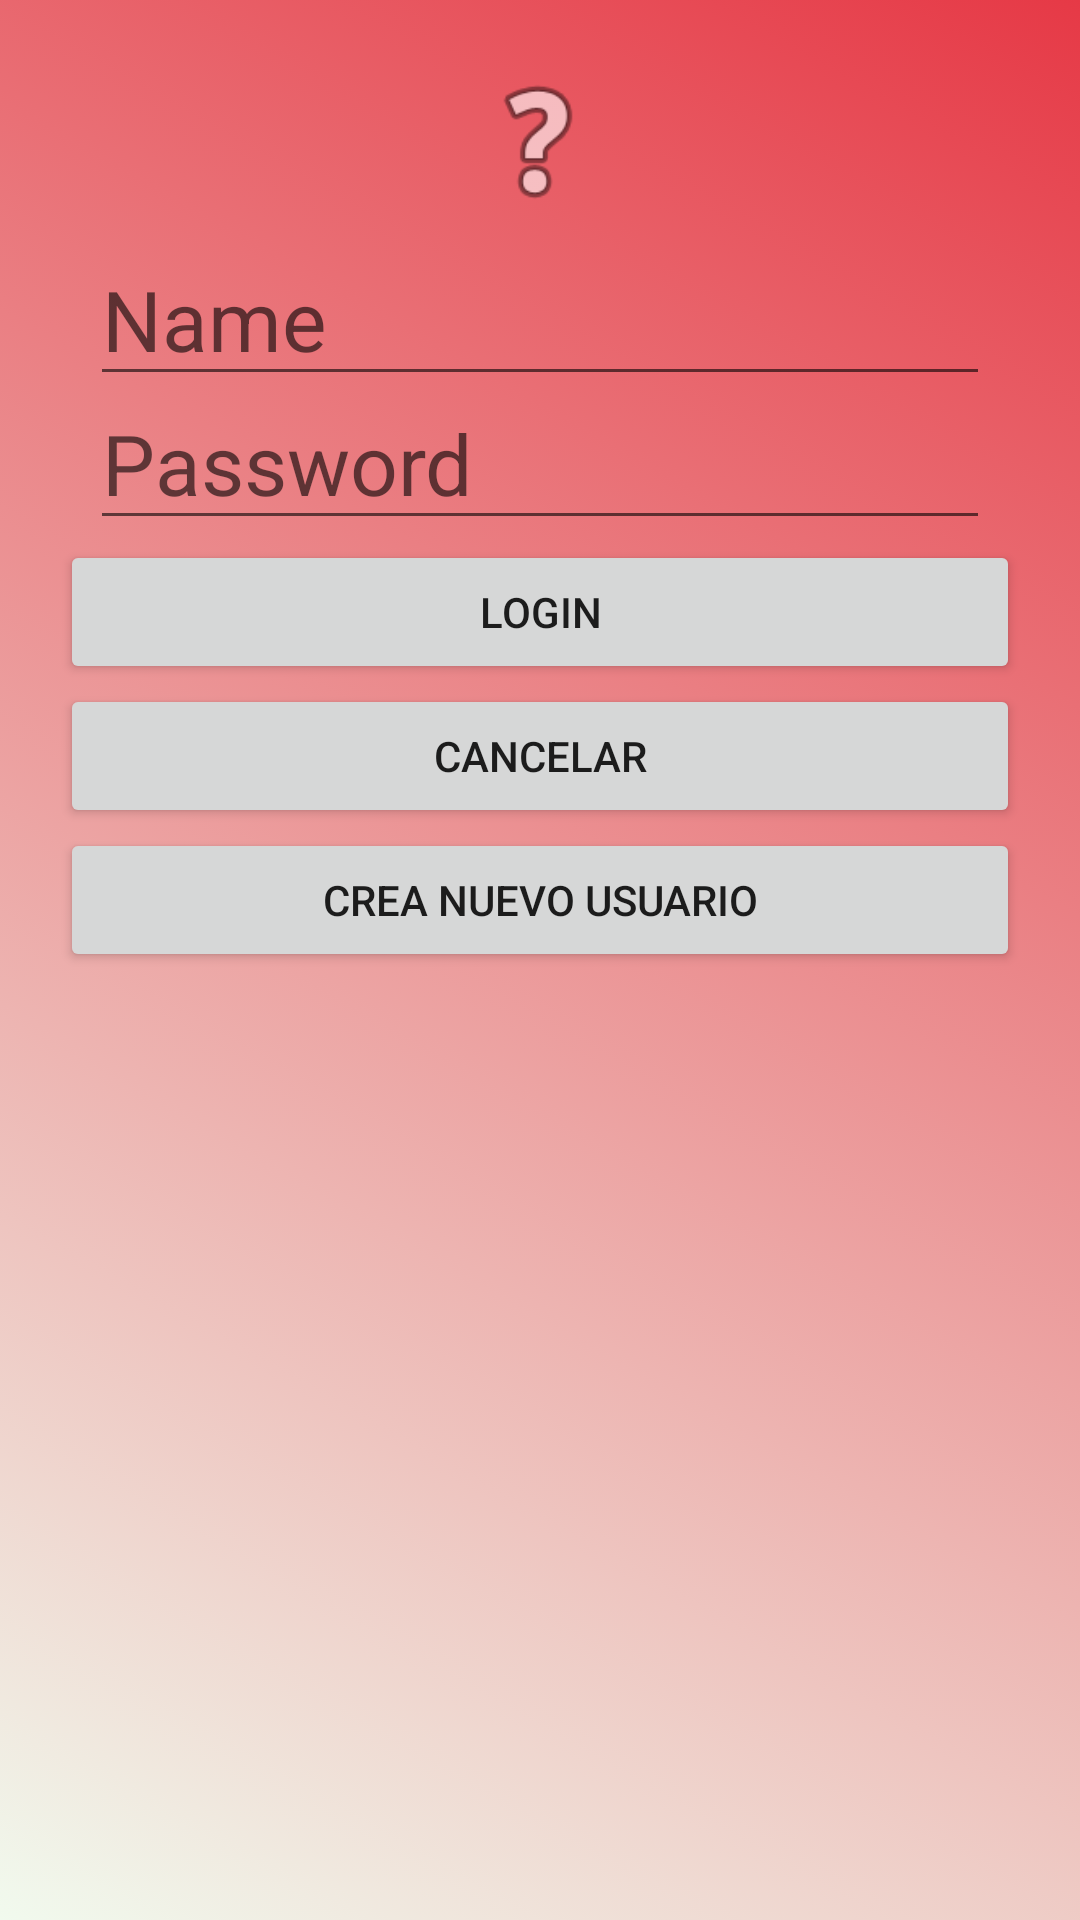

Point at icon controls on the screen. Image size 1080*1920, points as point (x, y).
help: point (538, 142)
